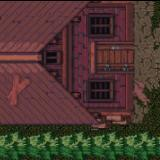Obstacle: (0, 0, 160, 129), (0, 129, 160, 160)
